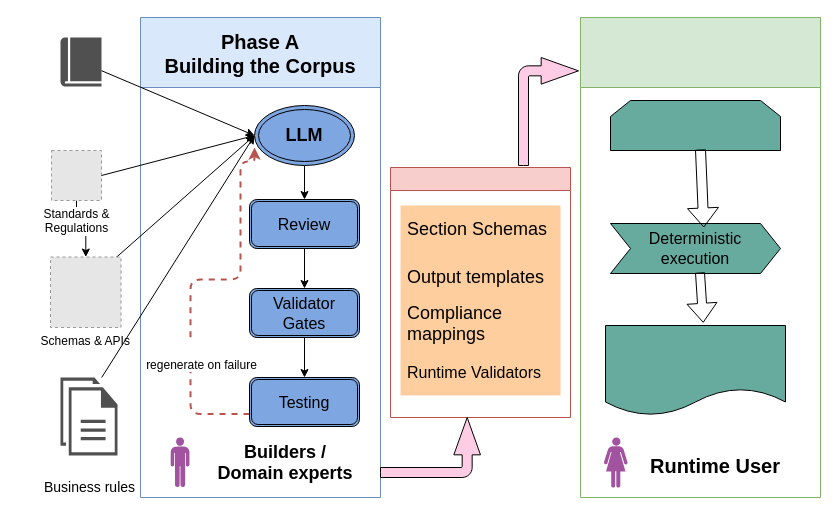
Image size: 838x515. Some labels were removed from this diagram. Grey dashed boxes stand in for pictures. Here are the shapes that lost their labels. From the top down, the box of each, then its label:
(60, 37, 101, 86): Domain knowledge (books, articles, papers)
(610, 100, 780, 150): User input / request
(580, 16, 820, 498): Phase B Deterministic Execution
(390, 166, 570, 418): Corpus
(604, 324, 786, 416): Output artifacts
